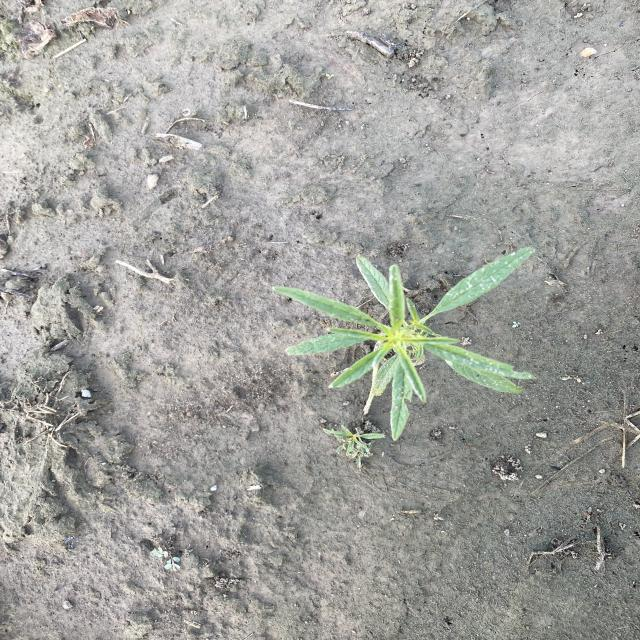Waterhemp: (271, 247, 539, 442), (320, 423, 391, 468)
